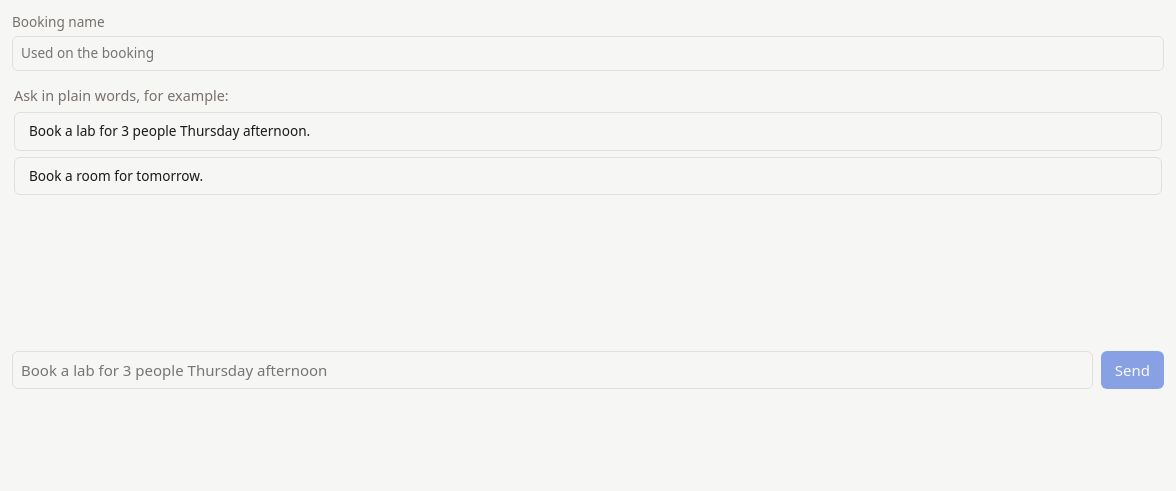
Test: Chat › case 1: plain words give a proposal, saved only after Approve
Type "Team A" into the field labelled "Booking name" at coordinates (588, 54), box [12,36,1164,71]
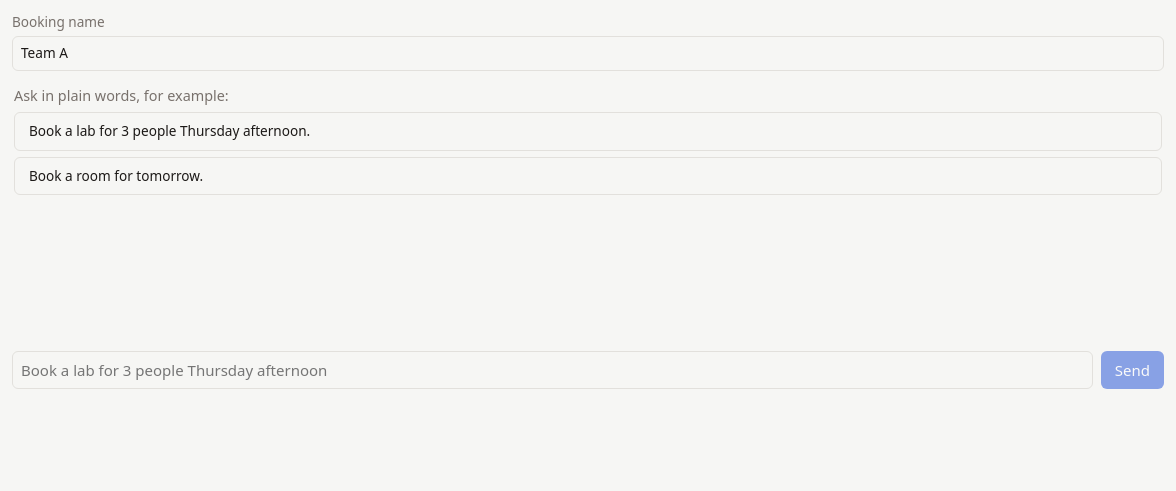
Type "Book a lab for 3 people Thursday afternoon." into the field named "Message" at coordinates (552, 370), box [12,351,1093,389]
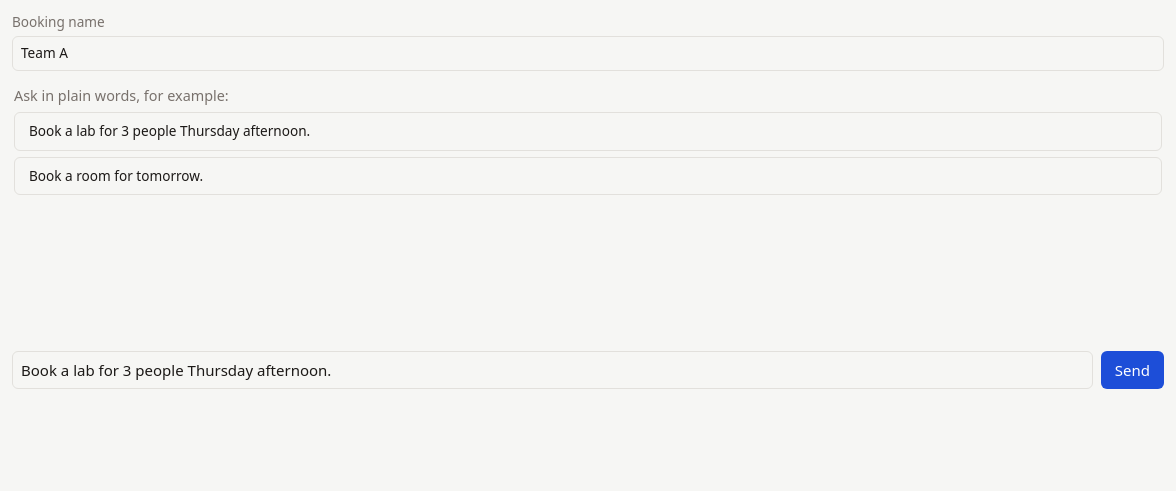
Click the button "Send" at coordinates (1132, 370), box [1101,351,1164,389]
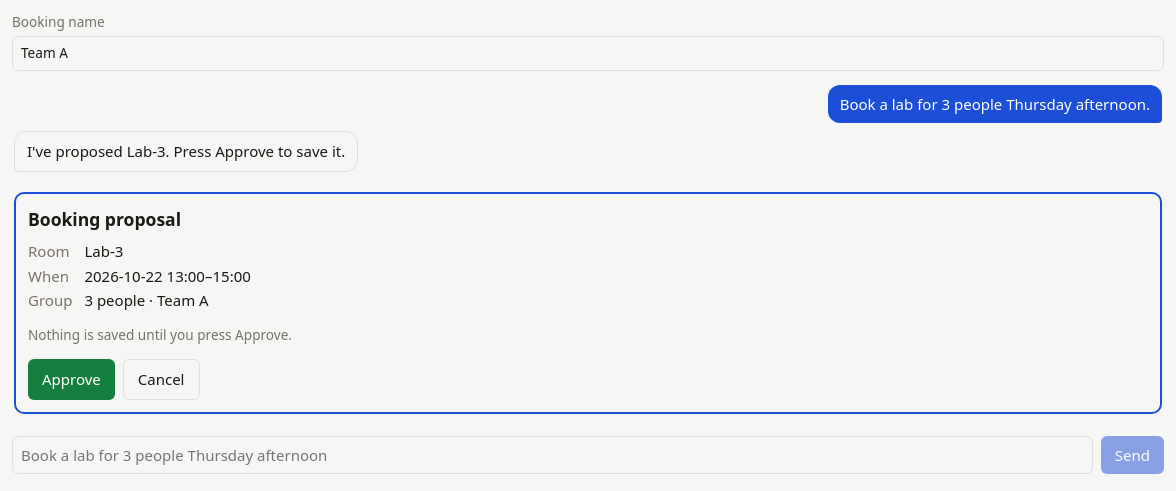
Check: the element "Booking proposal" is shown, box [14,192,1162,414]
Click the button "Approve" at coordinates (71, 379), box [28,359,115,400]
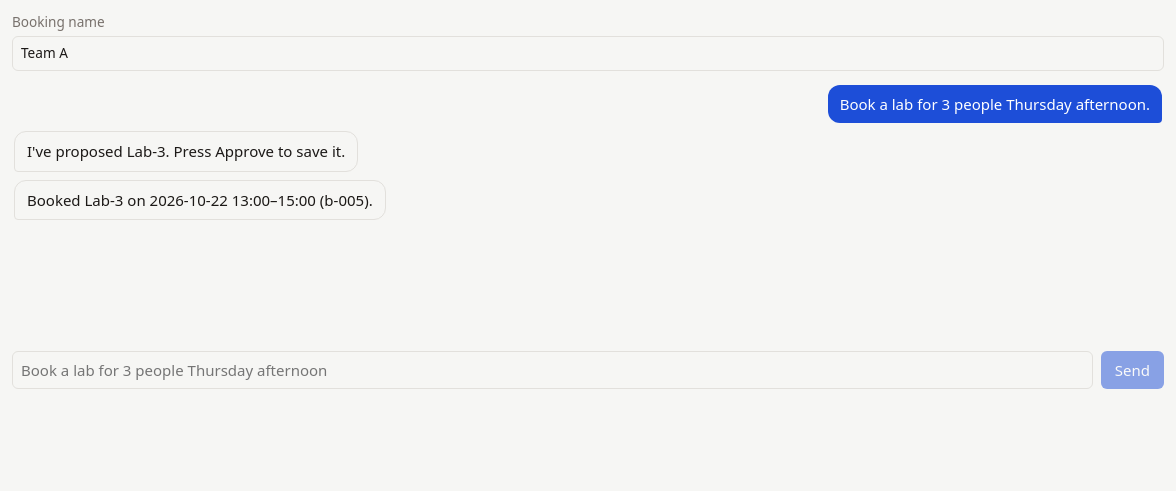
Check: the text "Booked Lab-3 on 2026-10-22 13:00–15:00 (b-005)." is shown, box [14,180,386,220]
